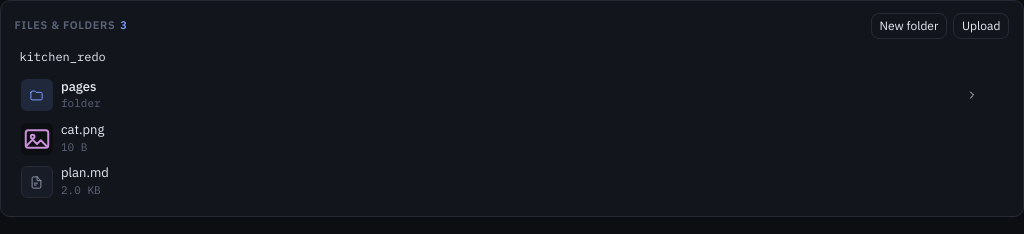
Test: the project explorer › lists the folder with folders first, and steps into one and back
Check: the text "plan.md" is shown, box [61,164,109,181]
Check: the text "2.0 KB" is shown, box [61,183,101,199]
Click the text "pages" at point(79, 86), box [61,78,96,94]
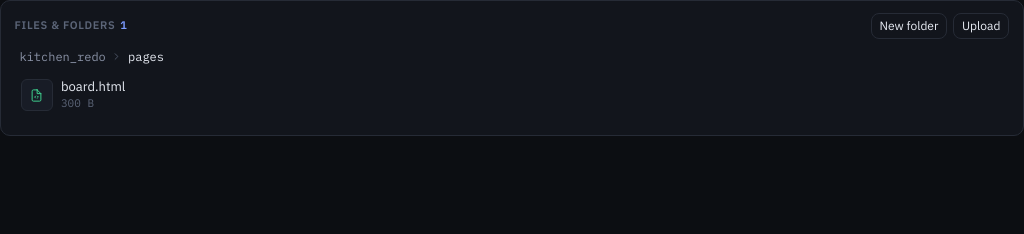
Check: the text "board.html" is shown, box [61,78,125,94]
Check: the button "plan.md" is gone
Click the button "kitchen_redo" at point(63, 56), box [15,47,111,66]
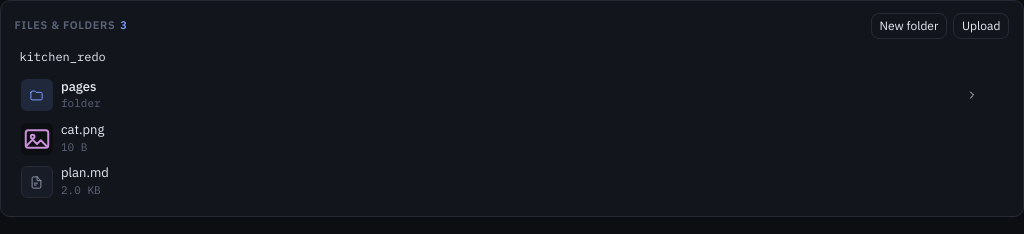
Check: the text "plan.md" is shown, box [61,164,109,181]
